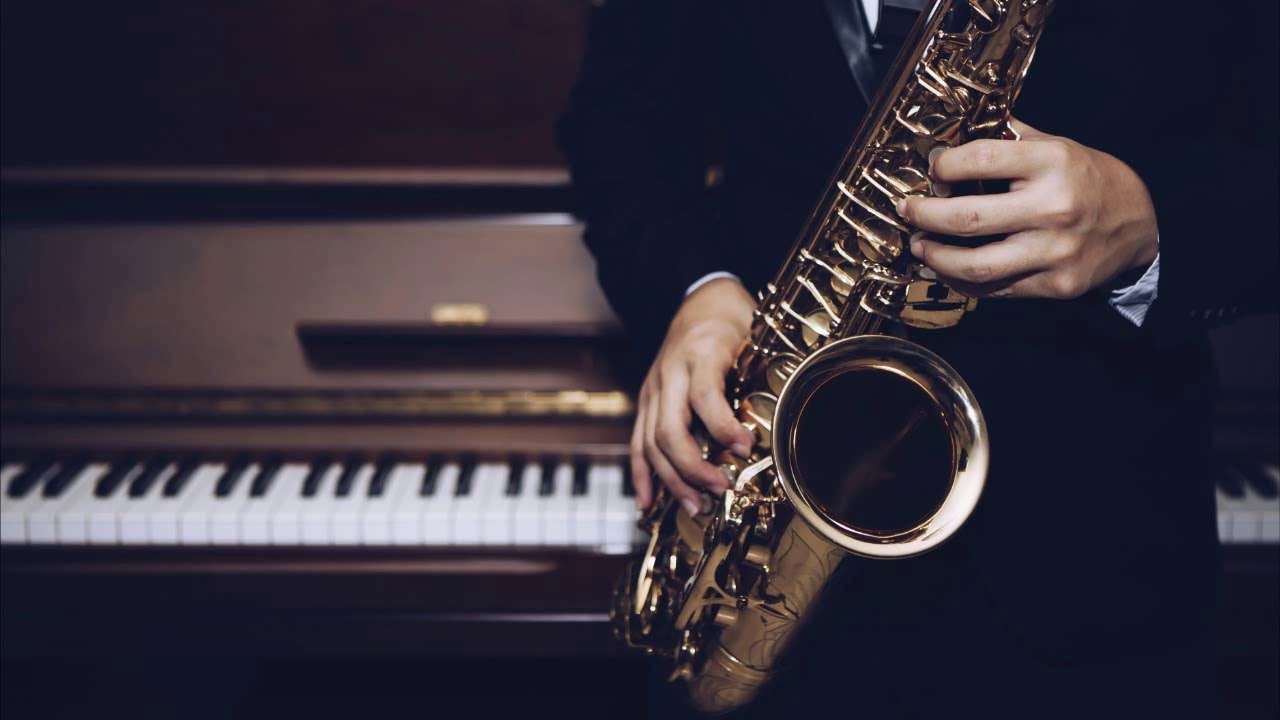Piano: (1, 351, 733, 612)
Saxophone: (589, 1, 1107, 720)
